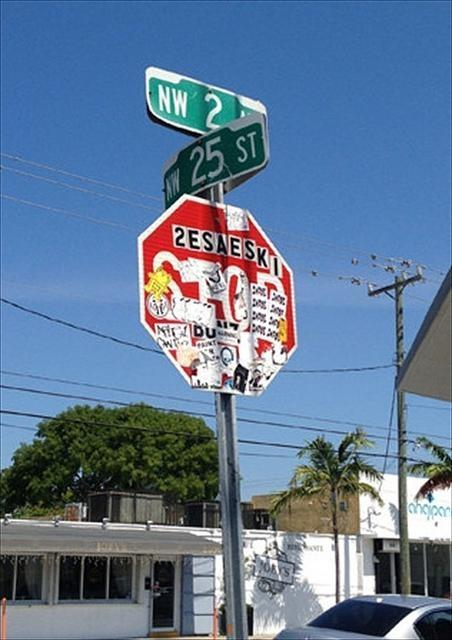car: (286, 594, 452, 633)
